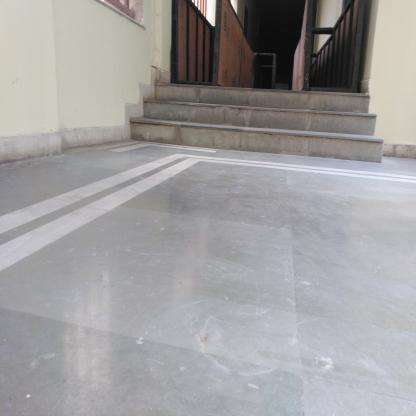stairs: (159, 85, 360, 150)
